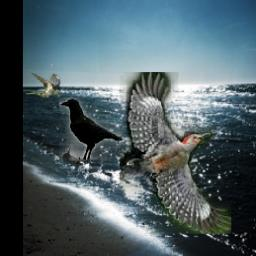Crow: (59, 98, 123, 162)
Swallow: (27, 71, 61, 98)
Woodpecker: (121, 72, 232, 234)
